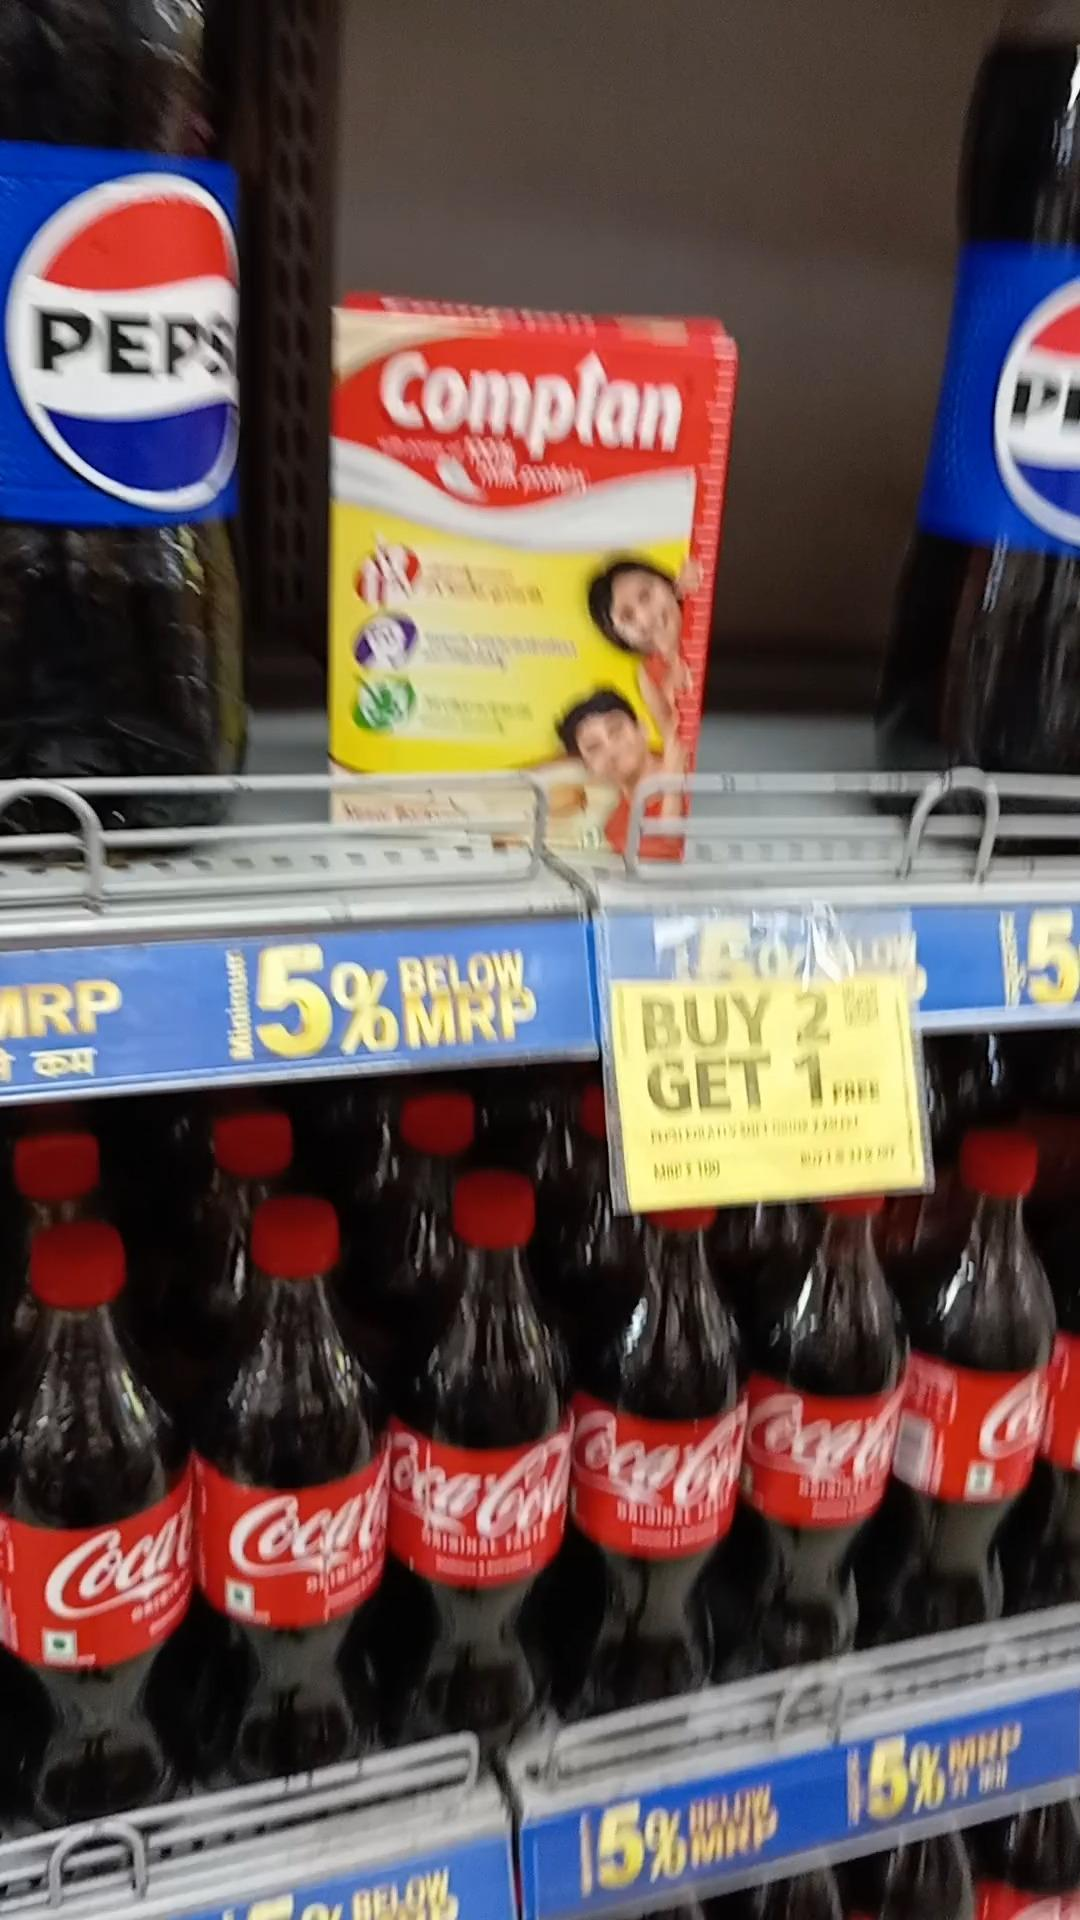COMPLAN_CHOCOLATE_200_GMS_JAR: (336, 315, 676, 856)
